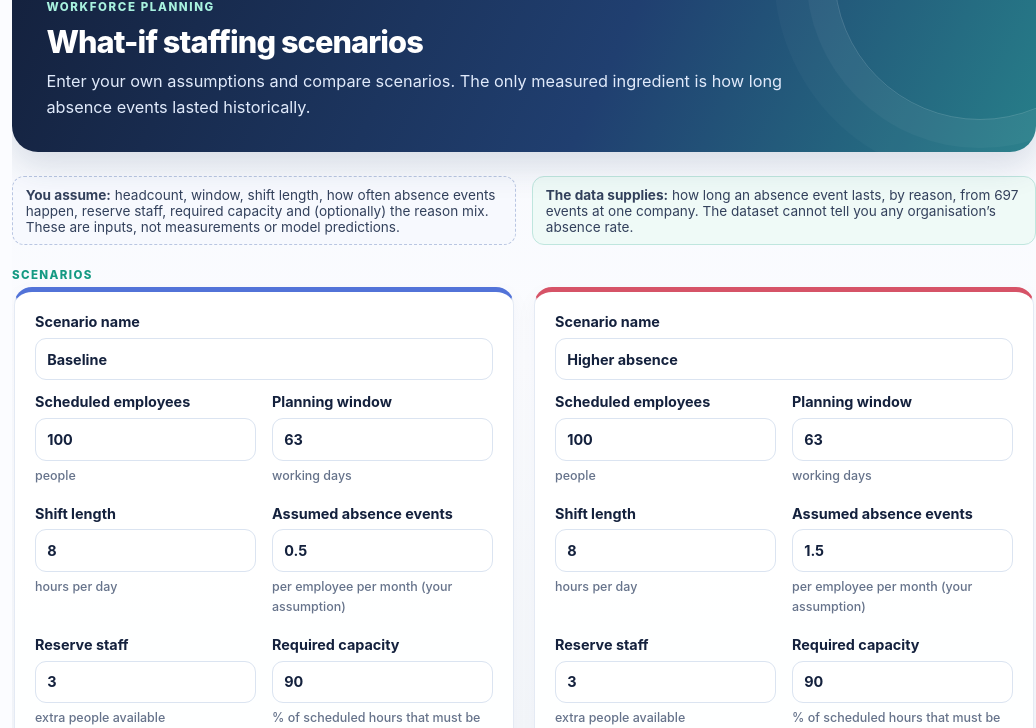
it: Planning page › blocks submission when an input is invalid
Step 1. Replace the text in the 1st number field labelled "Scheduled employees people" with "0" → (146, 440), box x1=35 y1=418 x2=256 y2=461
(page scrolled)
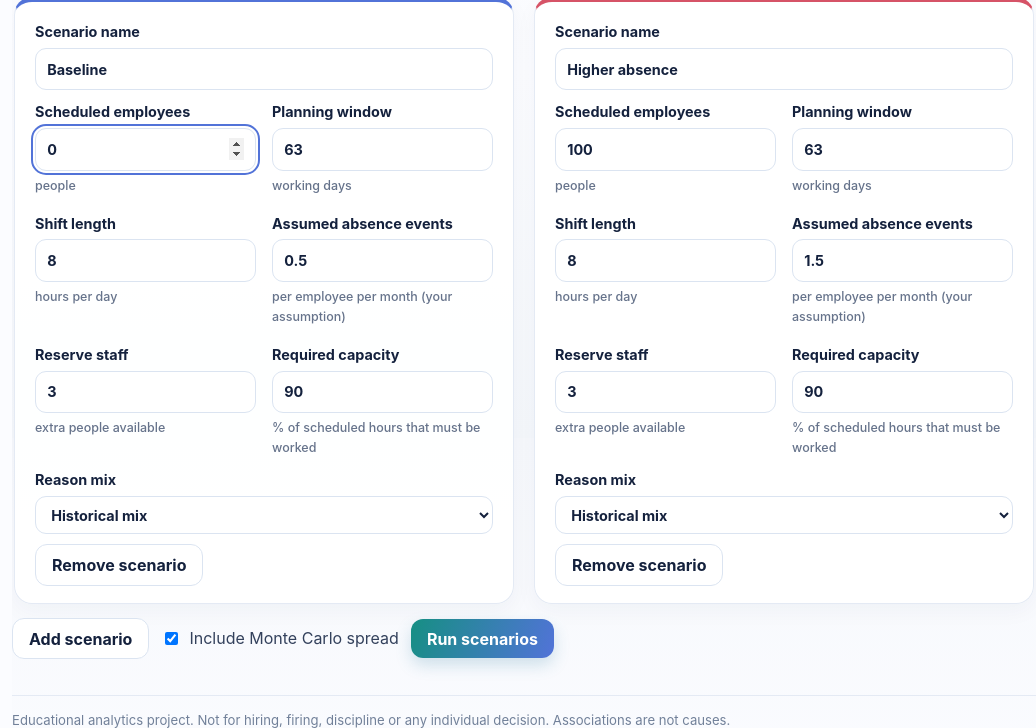
Step 2. Click the button "Run scenarios" → (482, 639), box x1=411 y1=619 x2=554 y2=658
(page scrolled)
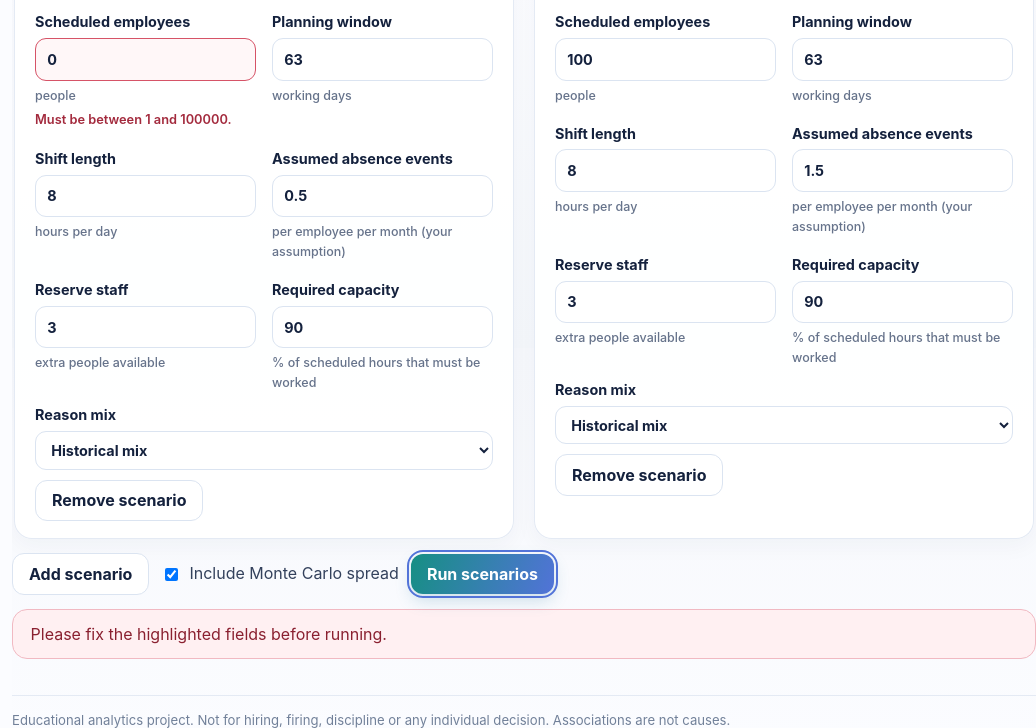
Check: the text "Please fix the highlighted fields before running." is shown, box x1=12 y1=609 x2=1035 y2=659
